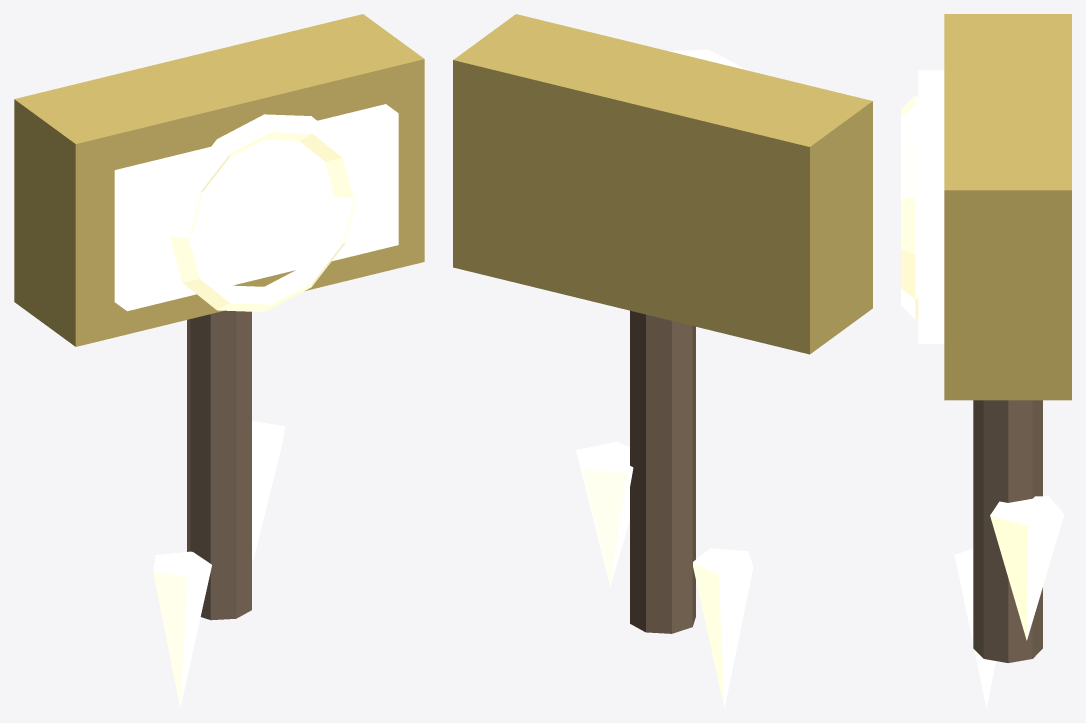
Rendered from judgment.glb.
3 views of the same model, side by side, from view 1: azimuth 30°, elevation 25°; view 2: azimuth 150°, elevation 25°; view 3: azimuth 270°, elevation 25° (orthographic). The views are drawn at different scales.
Parts seen in each view (by area): view 1: JudgmentHead, RadiantFace, JudgmentHaft, JudgmentSeal, JudgmentWake_1, JudgmentWake_0; view 2: JudgmentHead, JudgmentHaft, JudgmentWake_1, JudgmentWake_0; view 3: JudgmentHead, JudgmentHaft, RadiantFace, JudgmentWake_0, JudgmentSeal, JudgmentWake_1.
Boxes of the visible parts, x1=… form: JudgmentHead: x1=14, y1=14, x2=424, y2=346; RadiantFace: x1=114, y1=104, x2=398, y2=311; JudgmentHaft: x1=187, y1=310, x2=251, y2=620; JudgmentSeal: x1=169, y1=114, x2=358, y2=311; JudgmentWake_1: x1=153, y1=551, x2=211, y2=707; JudgmentWake_0: x1=252, y1=420, x2=284, y2=561; JudgmentHead: x1=453, y1=14, x2=872, y2=354; JudgmentHaft: x1=630, y1=310, x2=695, y2=633; JudgmentWake_1: x1=693, y1=548, x2=753, y2=708; JudgmentWake_0: x1=576, y1=441, x2=633, y2=586; JudgmentHead: x1=944, y1=14, x2=1071, y2=400; JudgmentHaft: x1=973, y1=400, x2=1042, y2=662; RadiantFace: x1=918, y1=70, x2=944, y2=343; JudgmentWake_0: x1=990, y1=496, x2=1064, y2=640; JudgmentSeal: x1=901, y1=95, x2=929, y2=319; JudgmentWake_1: x1=954, y1=549, x2=995, y2=708.
Size of the model in its own units: 0.72 by 1.2 by 0.295.
